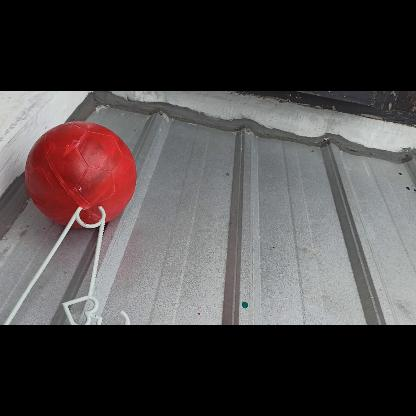red_ball: (26, 119, 136, 230)
